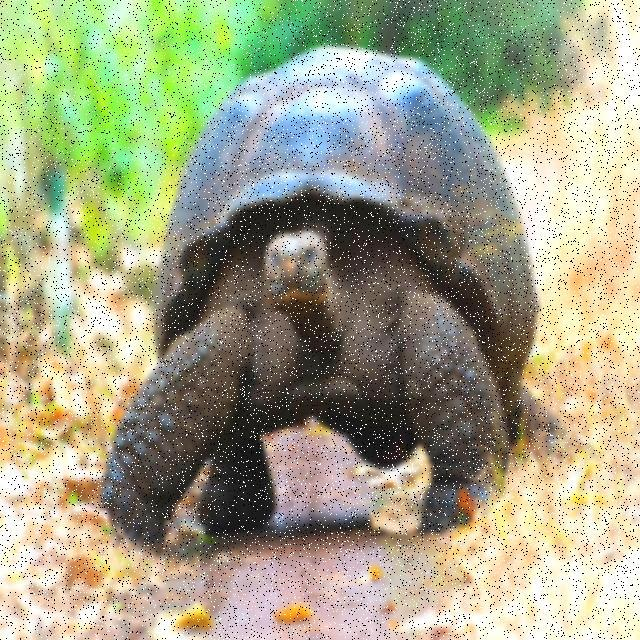tortoise: (89, 41, 566, 551)
